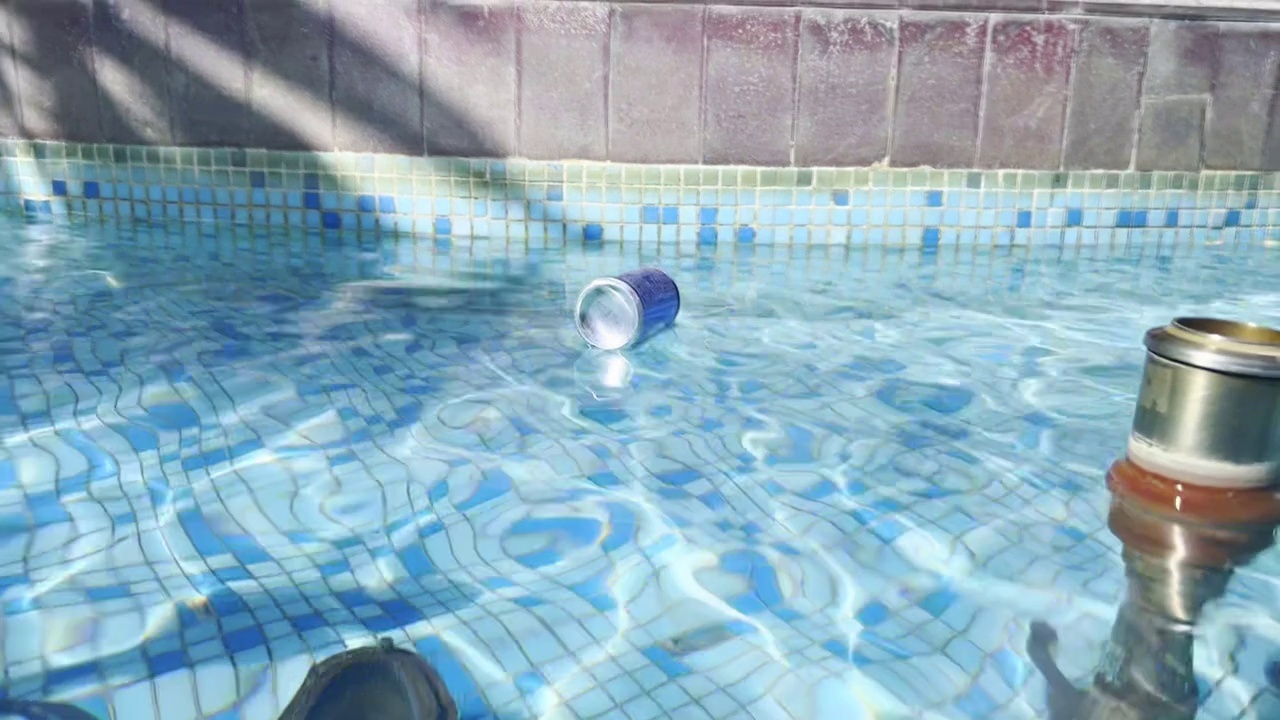debris: (561, 259, 687, 357)
